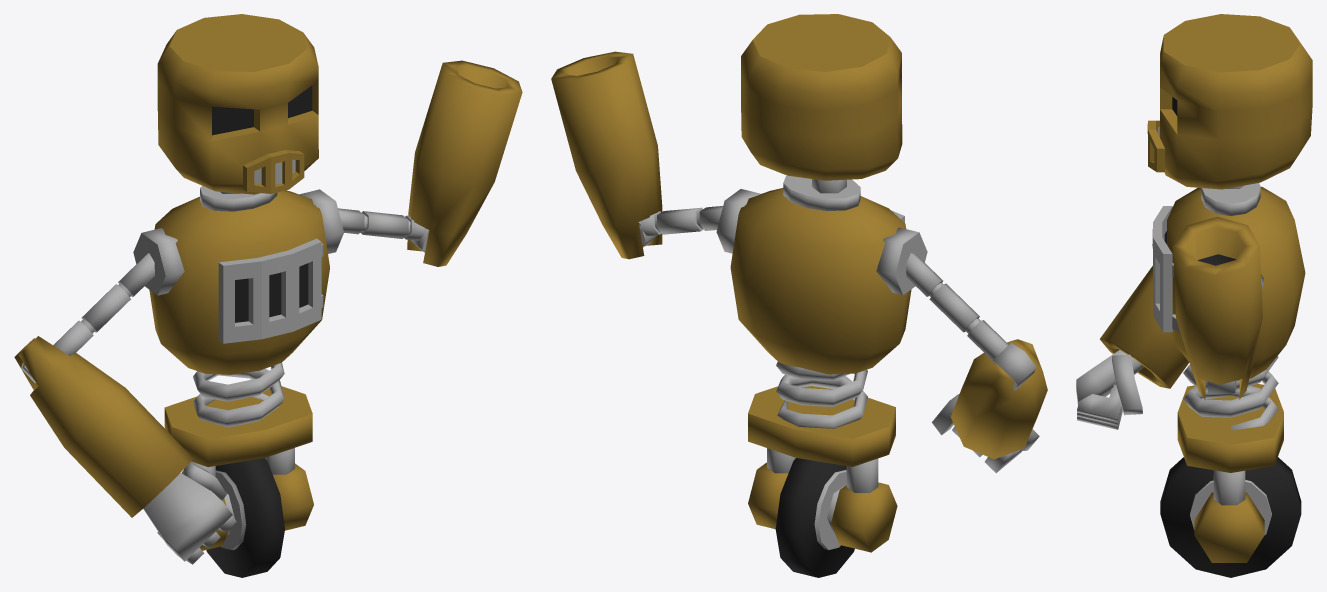
The model's file is Robot_Golem.fbx.
The picture shows the model from 3 angles, left to right: view 1: azimuth 30°, elevation 25°; view 2: azimuth 150°, elevation 25°; view 3: azimuth 270°, elevation 25°; orthographic projection.
Visible parts, largest first — view 1: Robot_Golem_Upper_Body_1, Robot_Golem_Head_1, Robot_Golem_Right_Forearm_1, Robot_Golem_Lower_Body_1, Robot_Golem_Left_Forearm_1, Robot_Golem_Right_Upper_Arm, Robot_Golem_Left_Upper_Arm; view 2: Robot_Golem_Upper_Body_1, Robot_Golem_Lower_Body_1, Robot_Golem_Head_1, Robot_Golem_Left_Forearm_1, Robot_Golem_Right_Forearm_1, Robot_Golem_Right_Upper_Arm, Robot_Golem_Left_Upper_Arm; view 3: Robot_Golem_Head_1, Robot_Golem_Lower_Body_1, Robot_Golem_Left_Forearm_1, Robot_Golem_Upper_Body_1, Robot_Golem_Right_Forearm_1.
Part boxes in pixels (x1,y1,x2,y2): Robot_Golem_Upper_Body_1: (133, 186, 343, 374); Robot_Golem_Head_1: (157, 14, 318, 194); Robot_Golem_Right_Forearm_1: (14, 336, 236, 564); Robot_Golem_Lower_Body_1: (164, 362, 313, 577); Robot_Golem_Left_Forearm_1: (407, 60, 522, 266); Robot_Golem_Right_Upper_Arm: (53, 253, 154, 356); Robot_Golem_Left_Upper_Arm: (338, 208, 424, 240); Robot_Golem_Upper_Body_1: (716, 175, 927, 374); Robot_Golem_Lower_Body_1: (748, 361, 897, 577); Robot_Golem_Head_1: (741, 14, 902, 180); Robot_Golem_Left_Forearm_1: (551, 51, 662, 259); Robot_Golem_Right_Forearm_1: (932, 339, 1047, 473); Robot_Golem_Right_Upper_Arm: (906, 253, 1008, 360); Robot_Golem_Left_Upper_Arm: (639, 206, 722, 235); Robot_Golem_Head_1: (1147, 14, 1312, 189); Robot_Golem_Lower_Body_1: (1160, 356, 1301, 577); Robot_Golem_Left_Forearm_1: (1173, 216, 1262, 399); Robot_Golem_Upper_Body_1: (1152, 183, 1305, 380); Robot_Golem_Right_Forearm_1: (1076, 266, 1189, 429).
Size of the model in its own units: 227 by 234 by 94.47.
